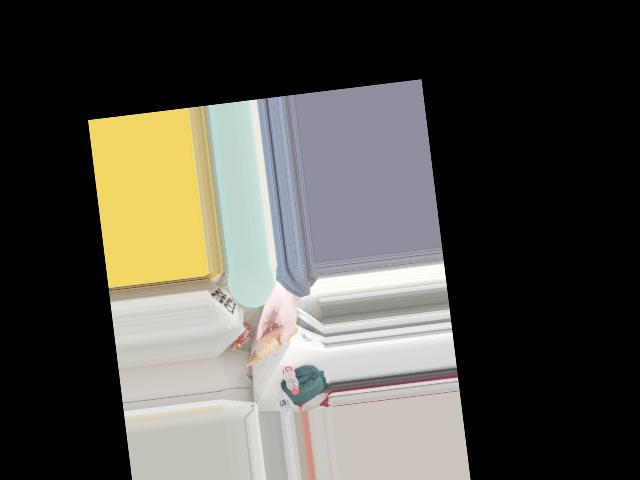sweet_potato: (256, 326, 294, 356)
